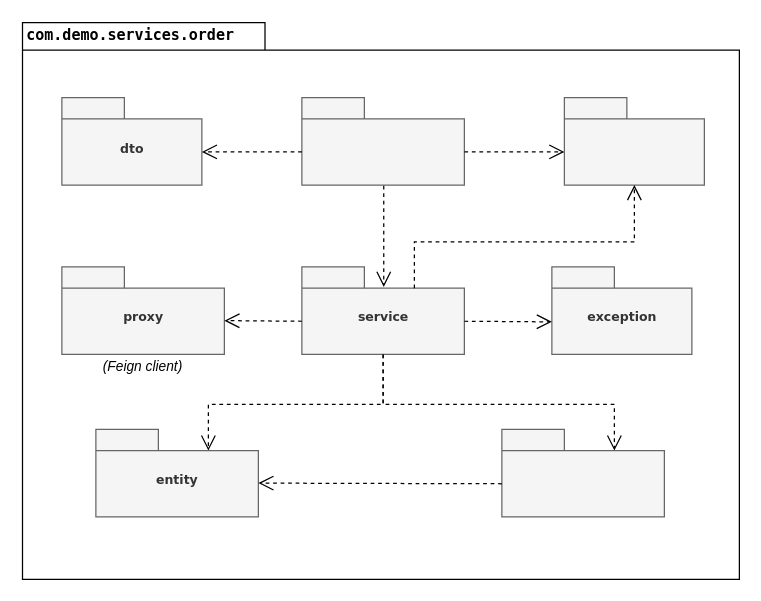
Image size: 761x601. Some labels were removed from this diagram. The centre of each missing label's shape, as x and y in pixels:
"controller" belongs at (382,140).
"repository" belongs at (582,472).
"util" belongs at (633,140).
